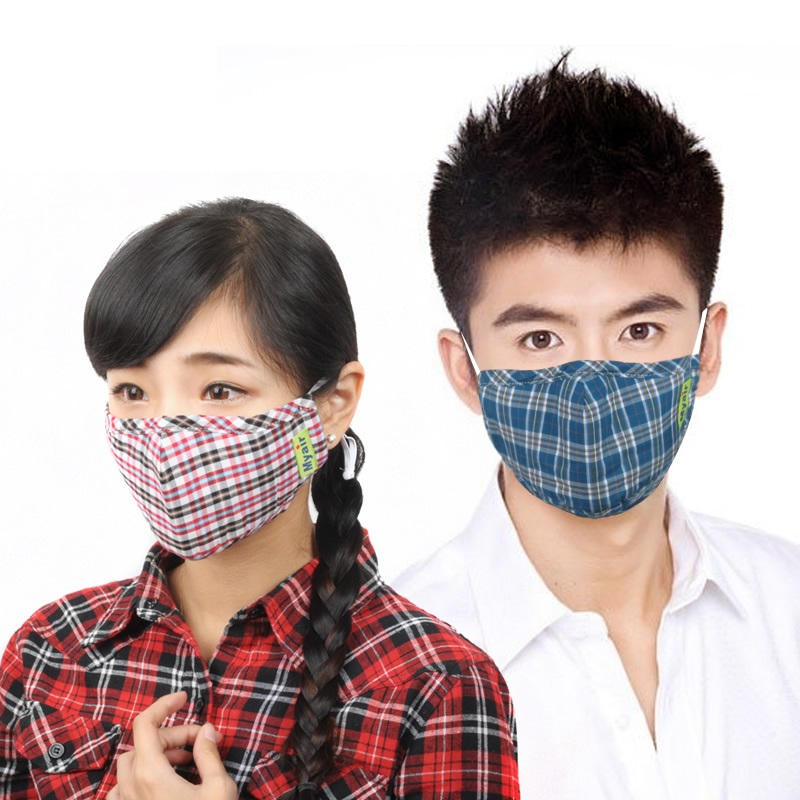face_mask: (469, 220, 700, 500), (102, 281, 307, 540)
